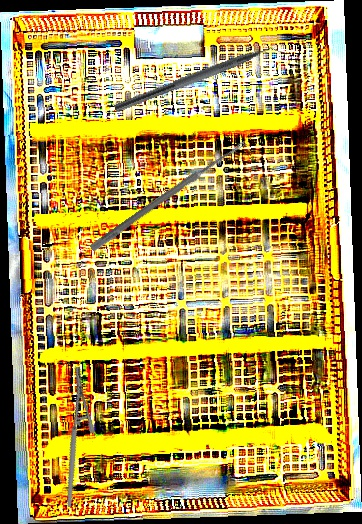Chopper: (113, 37, 288, 125)
Needle Holder: (22, 364, 124, 508)
Surgical Spoon: (89, 138, 248, 253)
